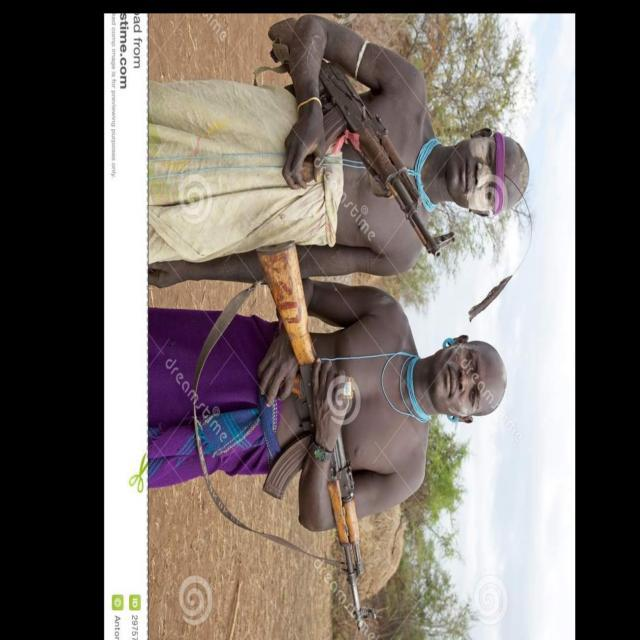weapon: (256, 240, 377, 633), (268, 17, 457, 260)
